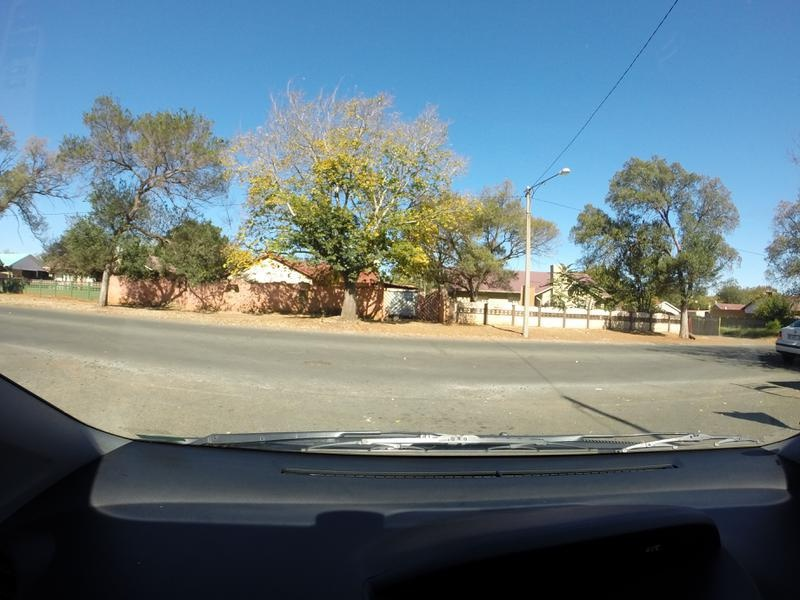pothole: (301, 359, 328, 369)
